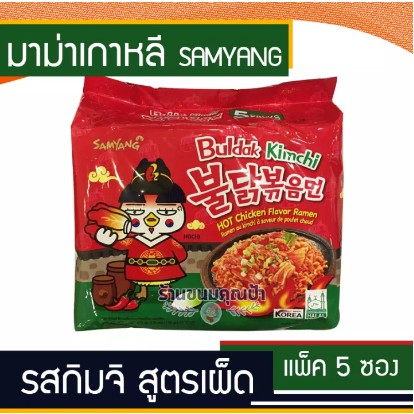Snack: (63, 73, 349, 334)
